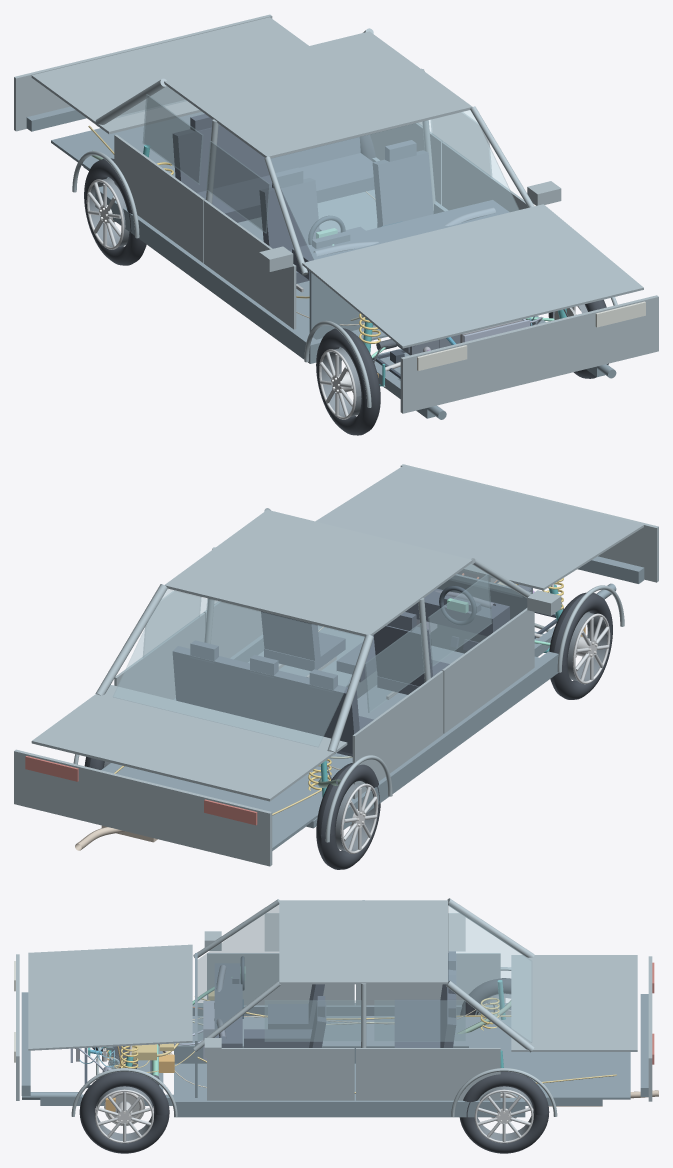
File: cruze-full-r4.glb
3 views of the same model, one above another, from view 1: azimuth 30°, elevation 25°; view 2: azimuth 150°, elevation 25°; view 3: azimuth 270°, elevation 25° (orthographic). The views are drawn at different scales.
Parts seen in each view (by area): view 1: hood, windshield, roof, front_fascia, trunk_lid, front_door_L, rear_seat_back, rear_door_L, sill_L, rear_seat_cushion, seat_back_R, rear_floor (+25 smaller); view 2: rear_glass, roof, hood, trunk_lid, rear_fascia, rear_seat_back, front_door_L, rear_door_L, sill_L, rear_floor, sideglass_front_L, sideglass_rear_L (+26 smaller); view 3: hood, roof, trunk_lid, front_door_R, rear_door_R, rear_glass, windshield, sill_R, rear_floor, sideglass_front_R, sideglass_rear_R, floorpan (+33 smaller).
Part boxes in pixels (x1,y1,x2,y2): hood: [302, 204, 643, 348]; windshield: [271, 110, 519, 259]; roof: [164, 31, 472, 158]; front_fascia: [400, 295, 658, 413]; trunk_lid: [31, 17, 308, 134]; front_door_L: [203, 200, 296, 329]; rear_seat_back: [172, 124, 360, 192]; rear_door_L: [114, 134, 205, 262]; sill_L: [95, 186, 319, 363]; rear_seat_cushion: [197, 153, 374, 222]; seat_back_R: [372, 150, 433, 227]; rear_floor: [51, 112, 204, 178]; rear_glass: [113, 589, 364, 747]; roof: [164, 510, 472, 636]; hood: [315, 466, 643, 590]; trunk_lid: [31, 685, 347, 801]; rear_fascia: [14, 749, 272, 866]; rear_seat_back: [172, 646, 359, 753]; front_door_L: [442, 608, 534, 733]; rear_door_L: [352, 671, 443, 798]; sill_L: [343, 651, 558, 829]; rear_floor: [101, 763, 322, 850]; sideglass_front_L: [428, 574, 492, 666]; sideglass_rear_L: [364, 623, 425, 712]; hood: [28, 944, 192, 1050]; roof: [279, 900, 447, 984]; trunk_lid: [511, 955, 637, 1051]; front_door_R: [207, 1048, 354, 1100]; rear_door_R: [356, 1048, 500, 1100]; rear_glass: [448, 904, 531, 1042]; windshield: [198, 904, 278, 1042]; sill_R: [174, 1098, 525, 1117]; rear_floor: [490, 1015, 630, 1099]; sideglass_front_R: [264, 1000, 361, 1041]; sideglass_rear_R: [374, 1000, 465, 1041]; floorpan: [174, 1016, 490, 1097].
Bounding box in the file's own units: 19.6 × 13.1 × 45.88.
